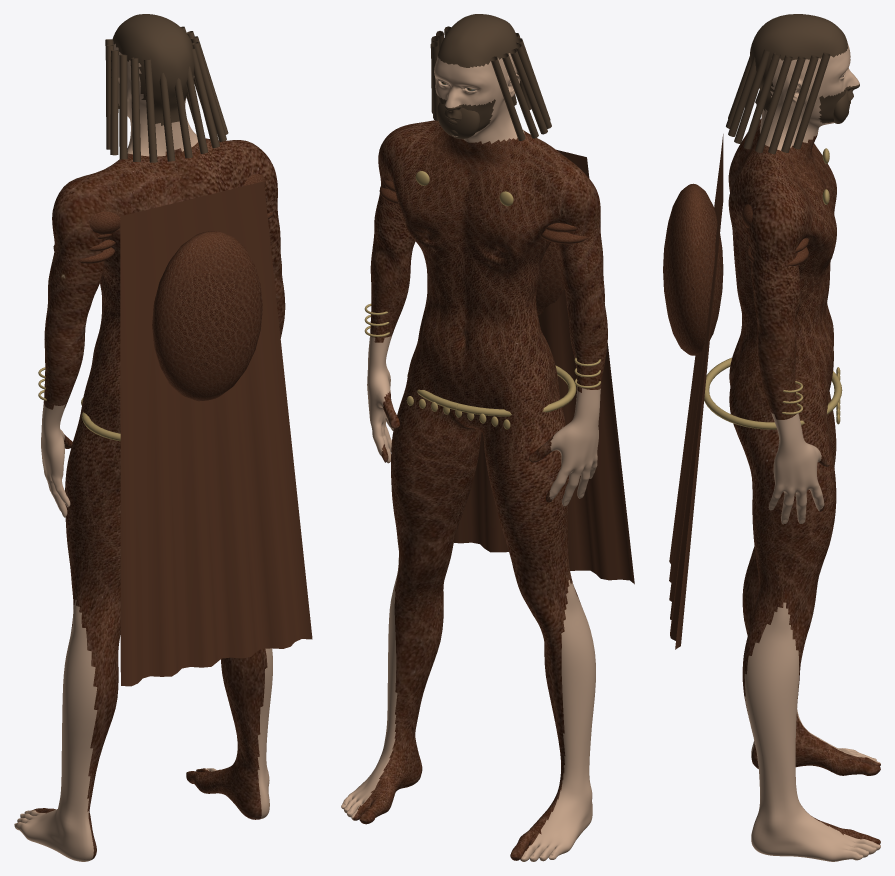
File: party_ranger.glb
3 renders of one model, left to right at view 1: azimuth 30°, elevation 25°; view 2: azimuth 150°, elevation 25°; view 3: azimuth 270°, elevation 25°, orthographic.
Visible parts, largest first — view 1: Cloak, Anatomy, Backpack, Hair.003, Hair.002, Hair.004, Hair.005, Hair.009, Hair.010, Hair.006, Hair.008, Hair.007 (+1 smaller); view 2: Anatomy, Cloak, Backpack, Belt, Beard, Hair.002, Hair.001, Hair, Hair.003; view 3: Anatomy, Backpack, Cloak, Belt, Hair.012, Hair.013, Hair.011, Hair.014, Hair.010, Hair.009, Hair.008.
Part boxes in pixels (x1,y1,x2,y2): Cloak: [120, 181, 312, 686]; Anatomy: [14, 14, 285, 861]; Backpack: [152, 231, 262, 401]; Hair.003: [119, 54, 127, 159]; Hair.002: [110, 50, 118, 155]; Hair.004: [130, 57, 140, 161]; Hair.005: [143, 59, 157, 162]; Hair.009: [191, 47, 219, 148]; Hair.010: [192, 42, 226, 141]; Hair.006: [159, 73, 175, 161]; Hair.008: [186, 66, 208, 153]; Hair.007: [174, 78, 192, 158]; Anatomy: [341, 14, 607, 861]; Cloak: [454, 149, 634, 584]; Backpack: [536, 242, 564, 314]; Belt: [407, 365, 576, 416]; Beard: [436, 102, 480, 138]; Hair.002: [510, 49, 547, 134]; Hair.001: [501, 53, 538, 138]; Hair: [490, 56, 525, 140]; Hair.003: [514, 44, 551, 128]; Anatomy: [728, 14, 880, 861]; Backpack: [663, 183, 723, 355]; Cloak: [669, 134, 723, 649]; Belt: [704, 357, 842, 429]; Hair.012: [768, 56, 805, 154]; Hair.013: [781, 55, 818, 152]; Hair.011: [755, 55, 792, 152]; Hair.014: [793, 52, 830, 149]; Hair.010: [743, 52, 780, 149]; Hair.009: [734, 49, 769, 143]; Hair.008: [728, 56, 756, 136].
Size of the model in its own units: 0.6124 by 2 by 0.4974.
10 materials, 1 textured.
